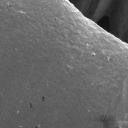corrosion: (41, 94, 46, 102), (90, 51, 96, 57), (29, 102, 33, 108)
